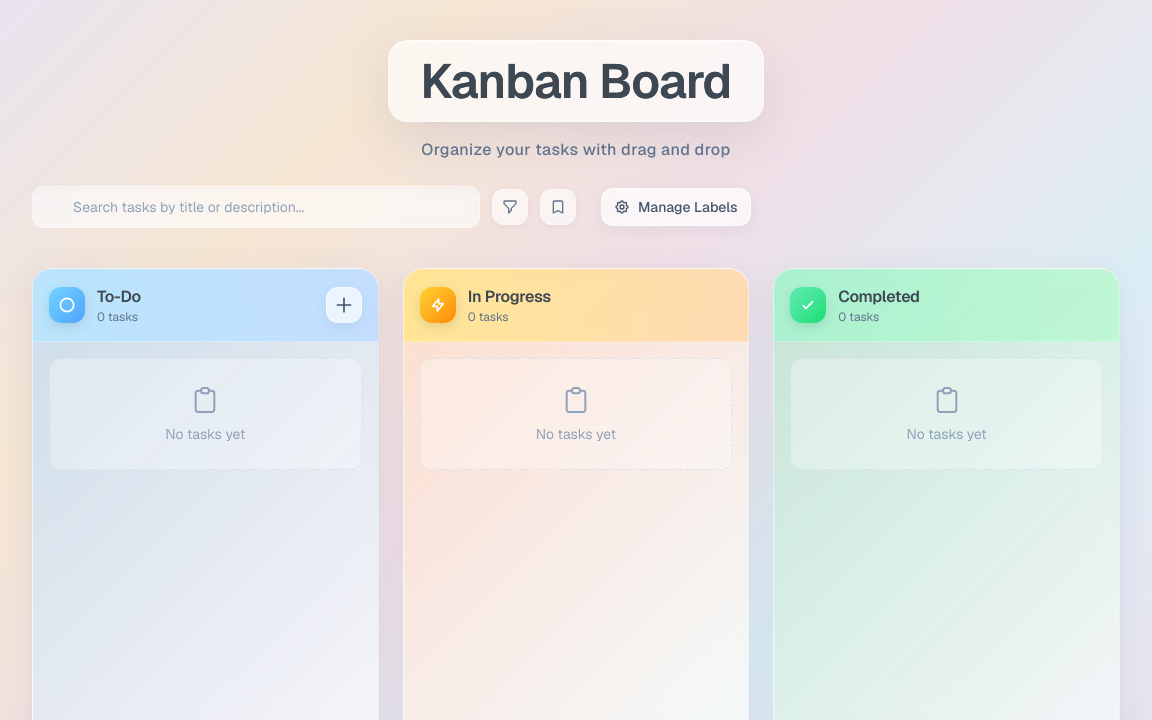
Test: Kanban Board Integration Tests › Create Task Workflow › should create a task and display it in the correct column
Click the button named "add new task": (344, 305) x1=326 y1=287 x2=362 y2=323
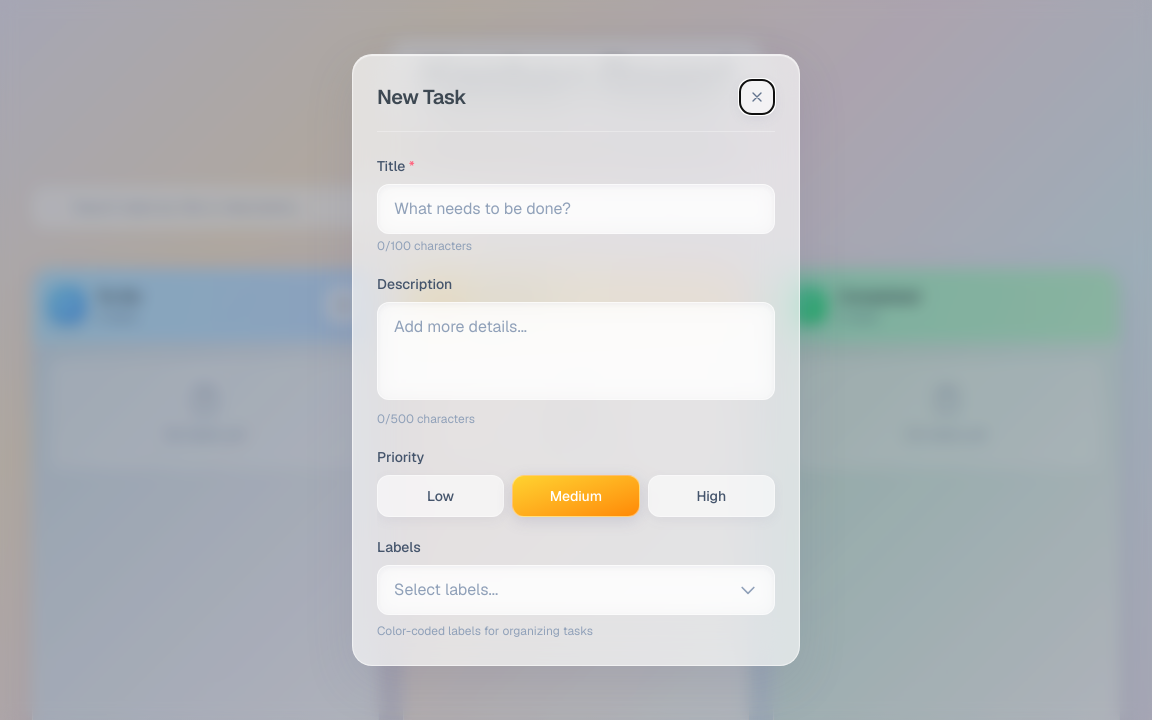
expect the dialog is shown: met, box x1=352 y1=54 x2=800 y2=666
In the field labelled "Title *": (576, 209) x1=377 y1=184 x2=775 y2=234, type "New Feature"
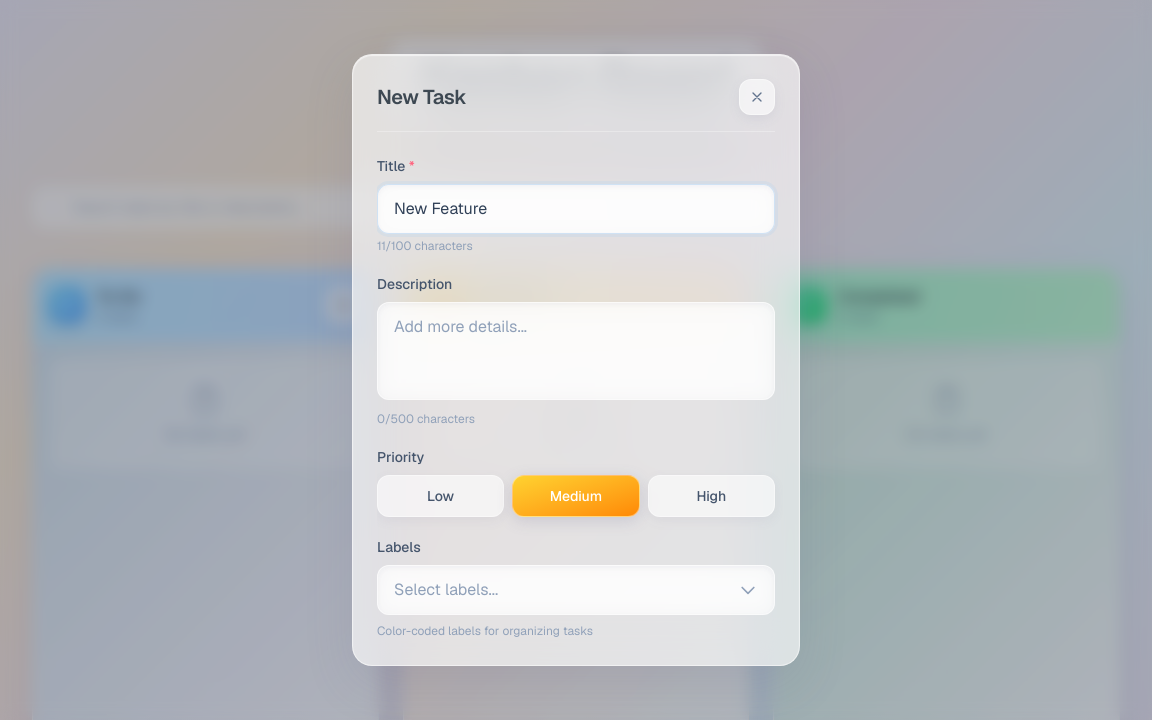
In the text box labelled "Description": (576, 351) x1=377 y1=302 x2=775 y2=400, type "Implement new feature"
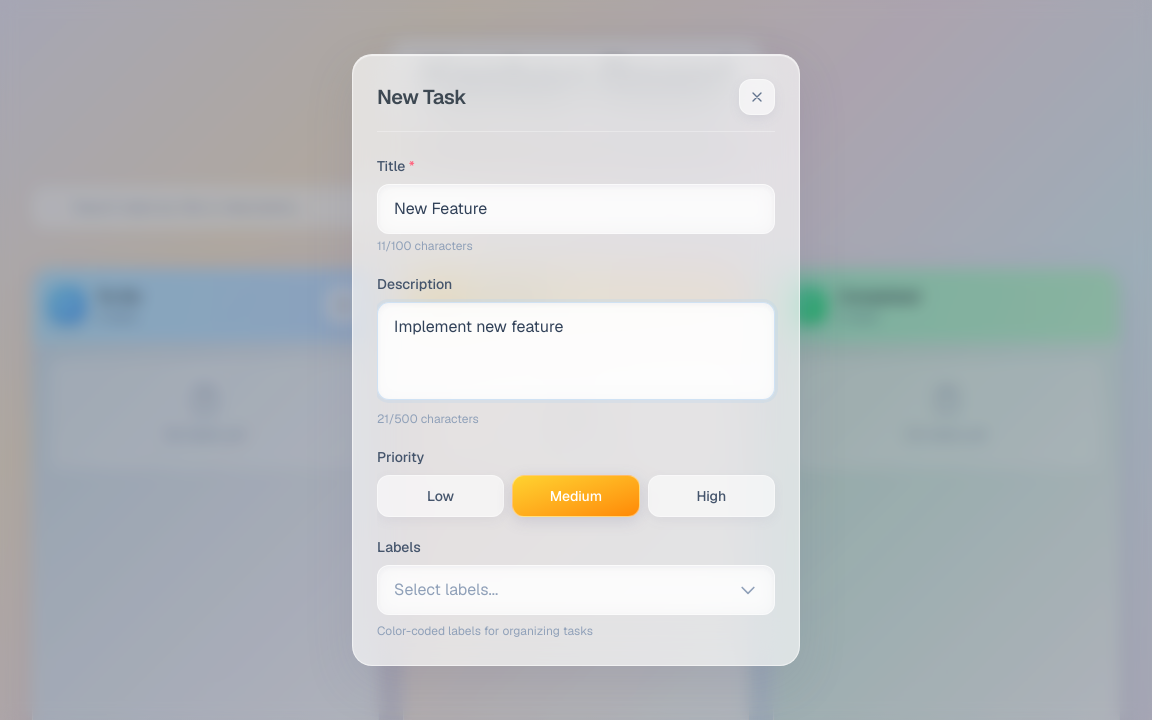
Click the button "High": (711, 496) x1=648 y1=475 x2=775 y2=517
(page scrolled)
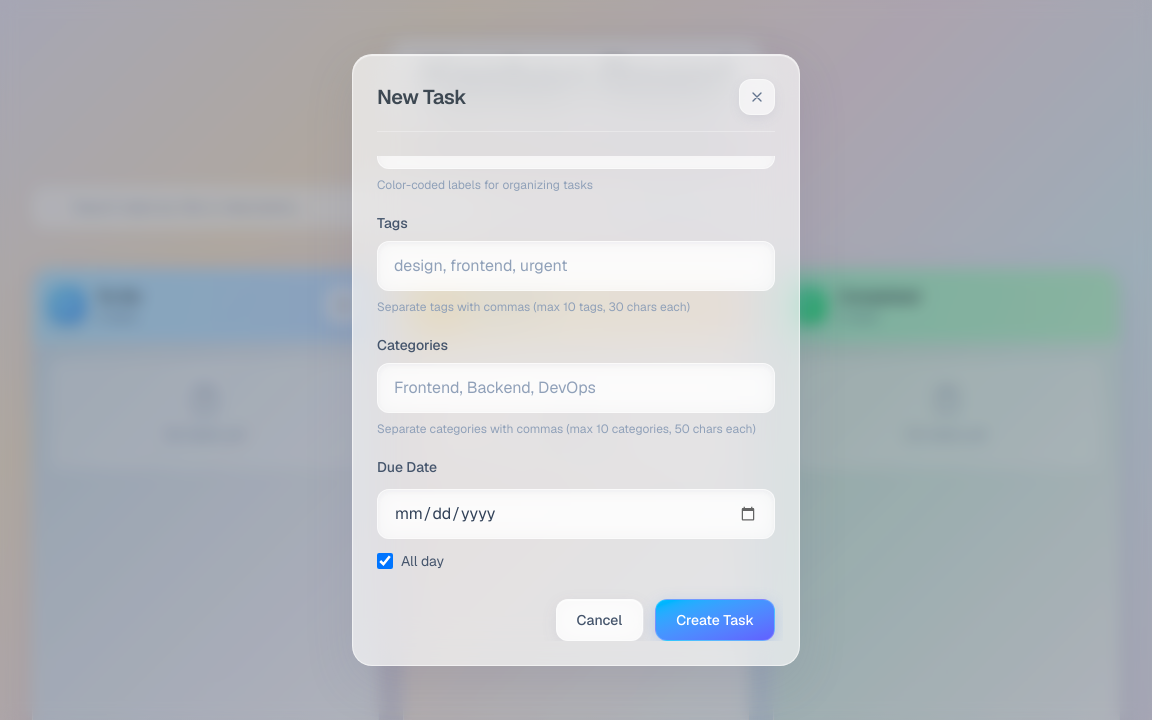
Click the button "Create Task": (715, 620) x1=655 y1=599 x2=775 y2=641
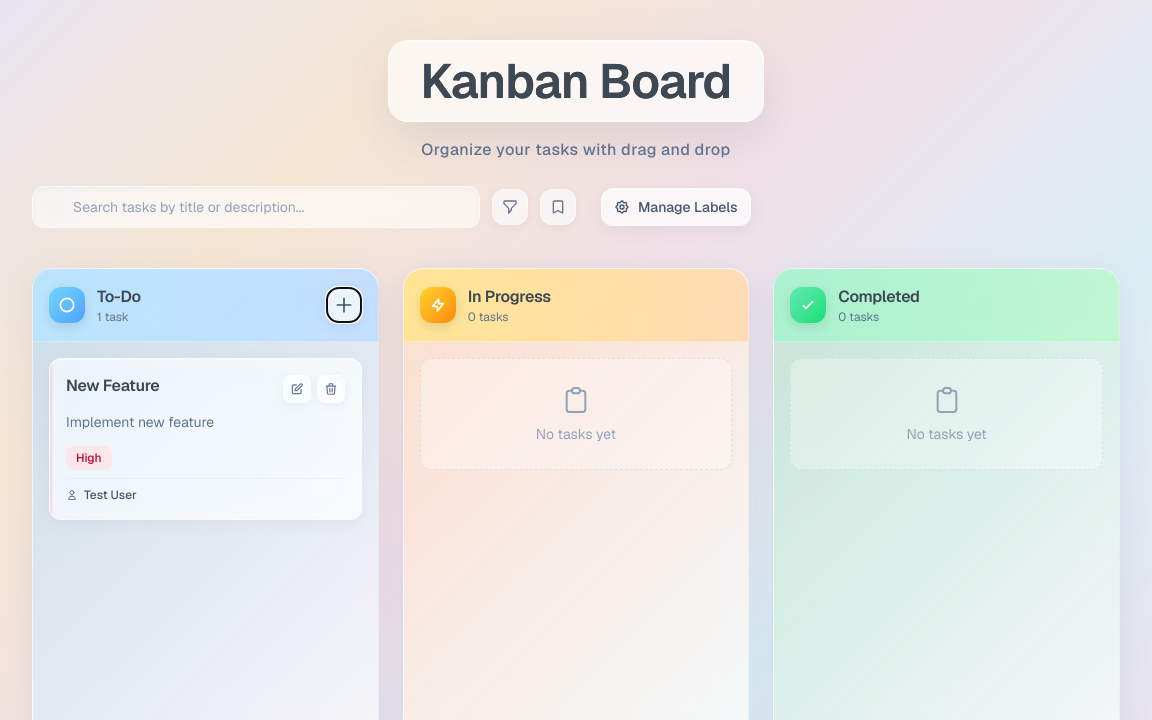
expect the dialog is gone: met
expect the heading "New Feature" is shown: met, box x1=66 y1=375 x2=159 y2=397
